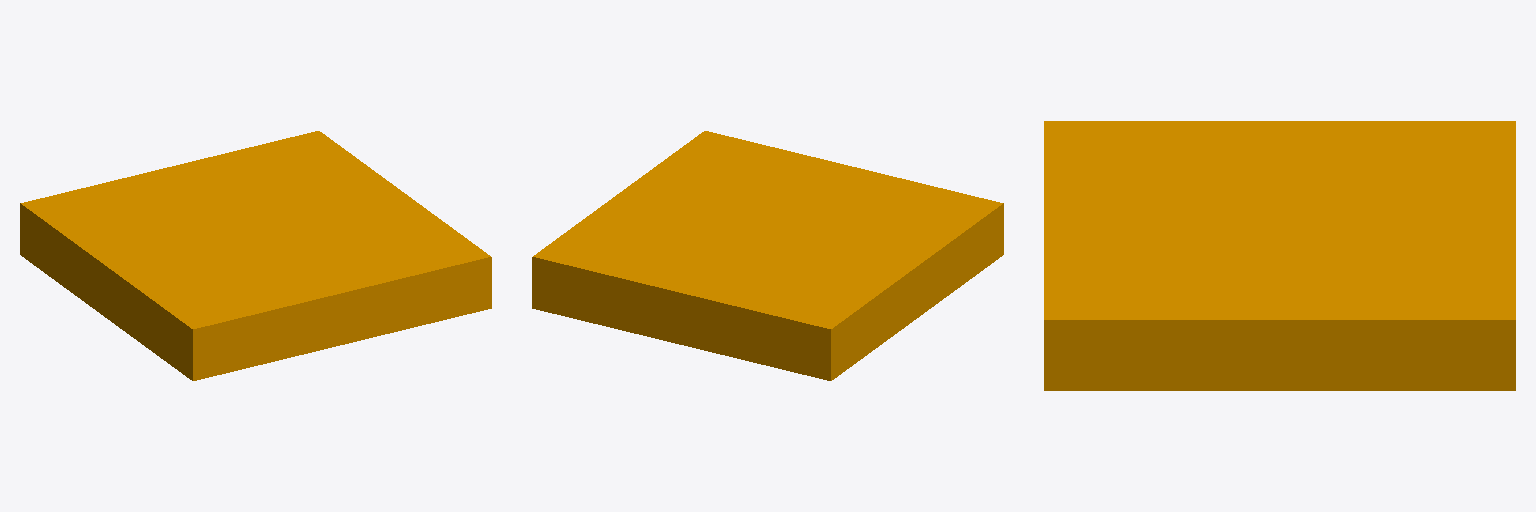
The robot description file, URDF, robot "apriltag_8_3611":
<robot name="apriltag_8_3611">

    <link name="apriltag_link_id8">
        <inertial>
            <origin xyz="0 0 0" rpy="0 0 0"/>
            <mass value="1.0"/>
            <inertia ixx="0.07461" ixy="0.0" ixz="0.0" iyy="0.5854" iyz="0.0" izz="0.02641"/>
        </inertial>
        <collision>
            <origin xyz="0 0 0" rpy="0 0 0"/>
            <geometry>
                <box size="0.2 0.2 0.1"/>
            </geometry>
        </collision>
        <visual>
            <origin xyz="0 0 0" rpy="0 0 0"/>
            <geometry>
                <mesh filename="package://apriltag_description/meshes/apriltag_8.dae"/>
            </geometry>
        </visual>
    </link>
    
    <gazebo reference="apriltag_link_id8">
        <kp>100000.0</kp>
        <kd>100000.0</kd>
        <mu1>0.1</mu1>
        <mu2>0.1</mu2>  
        <fdir1>1 0 0</fdir1>

           <!-- this tag may be unecessary if static is set to true
            (but using since may set static to false later)-->
        <gravity>0</gravity>
    </gazebo>

    <!-- Make sure that the reference="" attribute is not specified -->
    <gazebo>
        <static>true</static>
     
        
    </gazebo>
    

</robot>

--- What the picture shows (computed from the rendered views, not written in the file) ---
Views: 3 orthographic renders of the robot side by side, from view 1: azimuth 30°, elevation 25°; view 2: azimuth 150°, elevation 25°; view 3: azimuth 270°, elevation 25°.
Robot: apriltag_8_3611 — 1 links, 0 joints (none); root link apriltag_link_id8; default pose: all joints at 0.
Links seen in each view (by area): view 1: apriltag_link_id8; view 2: apriltag_link_id8; view 3: apriltag_link_id8.
Link boxes in pixels (x1,y1,x2,y2): apriltag_link_id8: (20, 131, 491, 380); apriltag_link_id8: (532, 131, 1003, 380); apriltag_link_id8: (1044, 121, 1515, 390).
Size in the robot's own frame: 0.16 by 0.16 by 0.0266 metres.
1 mesh visuals loaded from 1 distinct referenced files (1 Collada DAE).